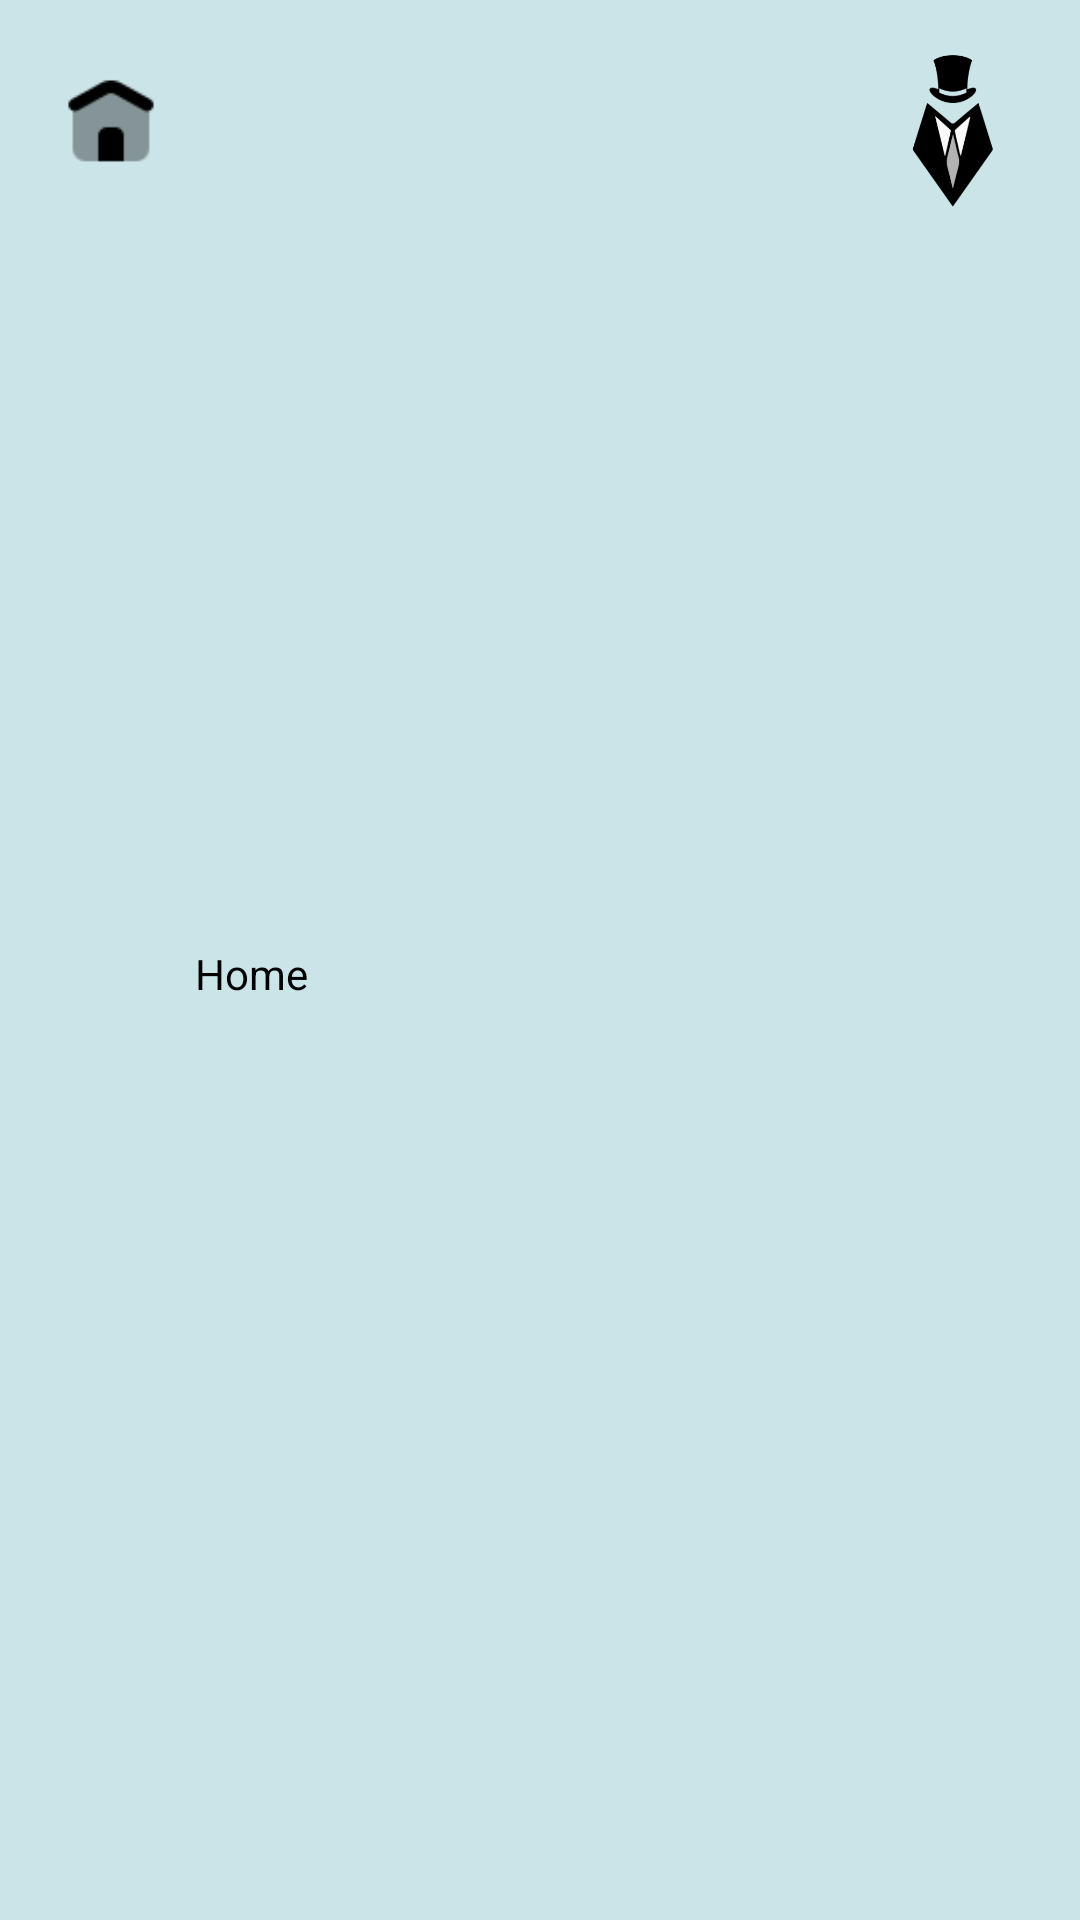

Named icons in this screenshot (1080w x 1920h) and their centers, point (x, y):
home: point (111, 121)
